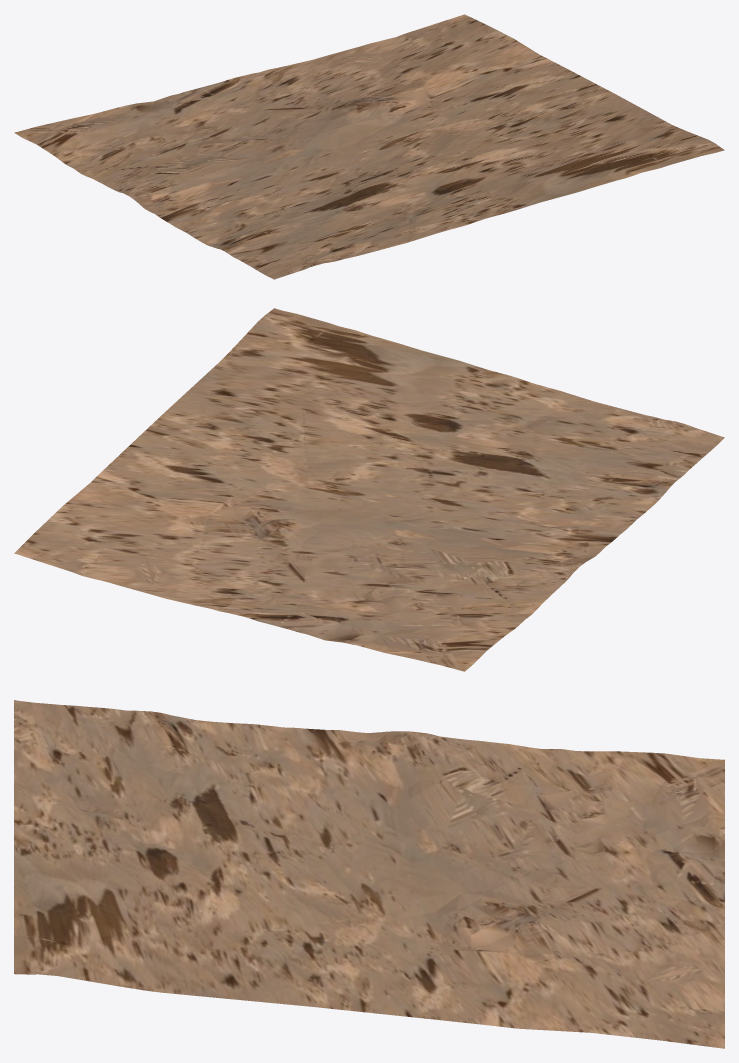
3 renders of one model, top to bottom at view 1: azimuth 30°, elevation 25°; view 2: azimuth 150°, elevation 25°; view 3: azimuth 270°, elevation 25°, orthographic. The views are drawn at different scales.
Bounding box in the file's own units: 8.36 × 1.17 × 8.36.
2 materials, 2 textured.
